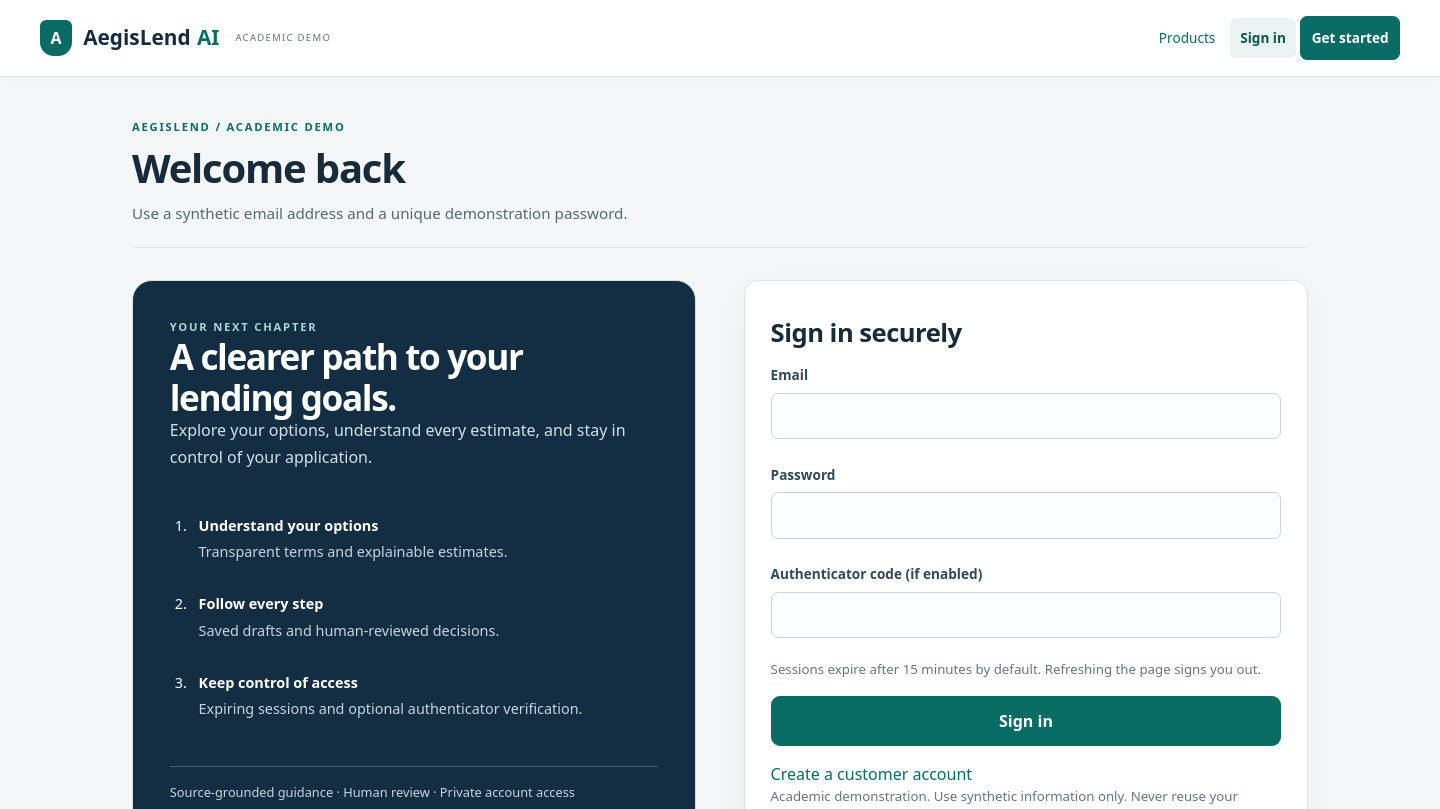
Test case: login displays backend failure and does not navigate on error
Type "synthetic@example.com" into the field labelled "Email".
click(1026, 416); type("synthetic@example.com")  # box [771,393,1281,439]
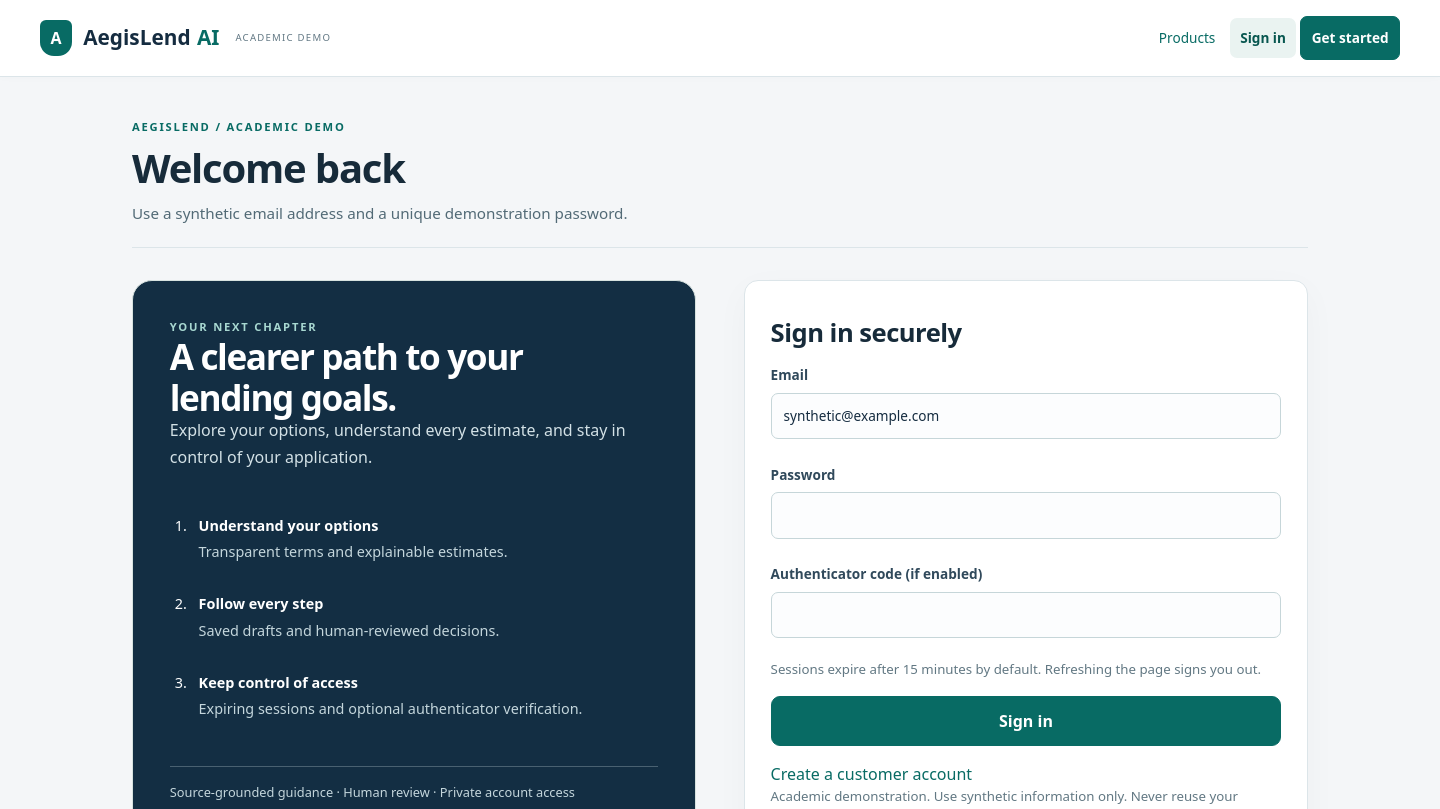
Type "synthetic-test-input-only" into the password field labelled "Password".
click(1026, 516); type("synthetic-test-input-only")  # box [771,492,1281,539]
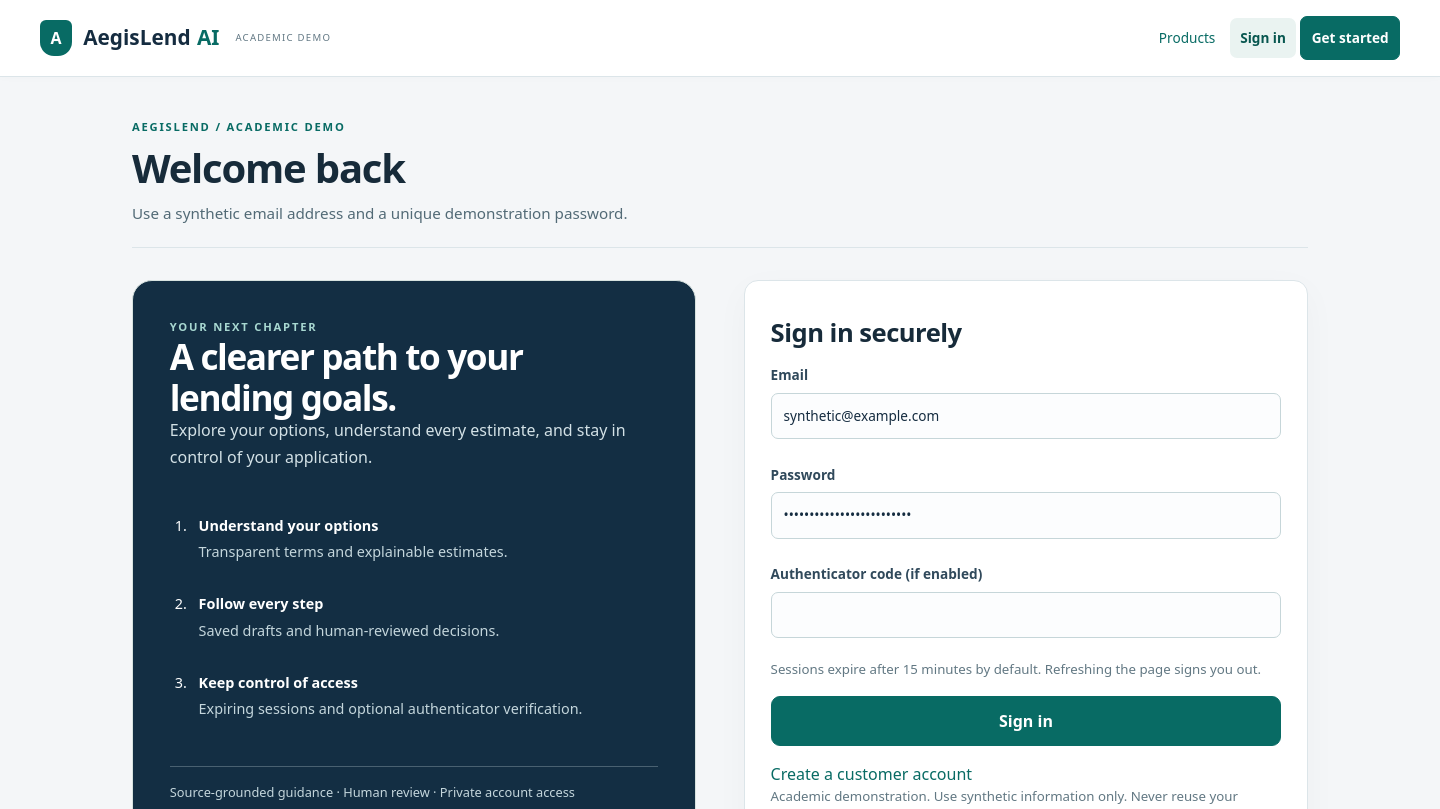
Click the button "Sign in".
click(1026, 721)  # box [771,696,1281,746]
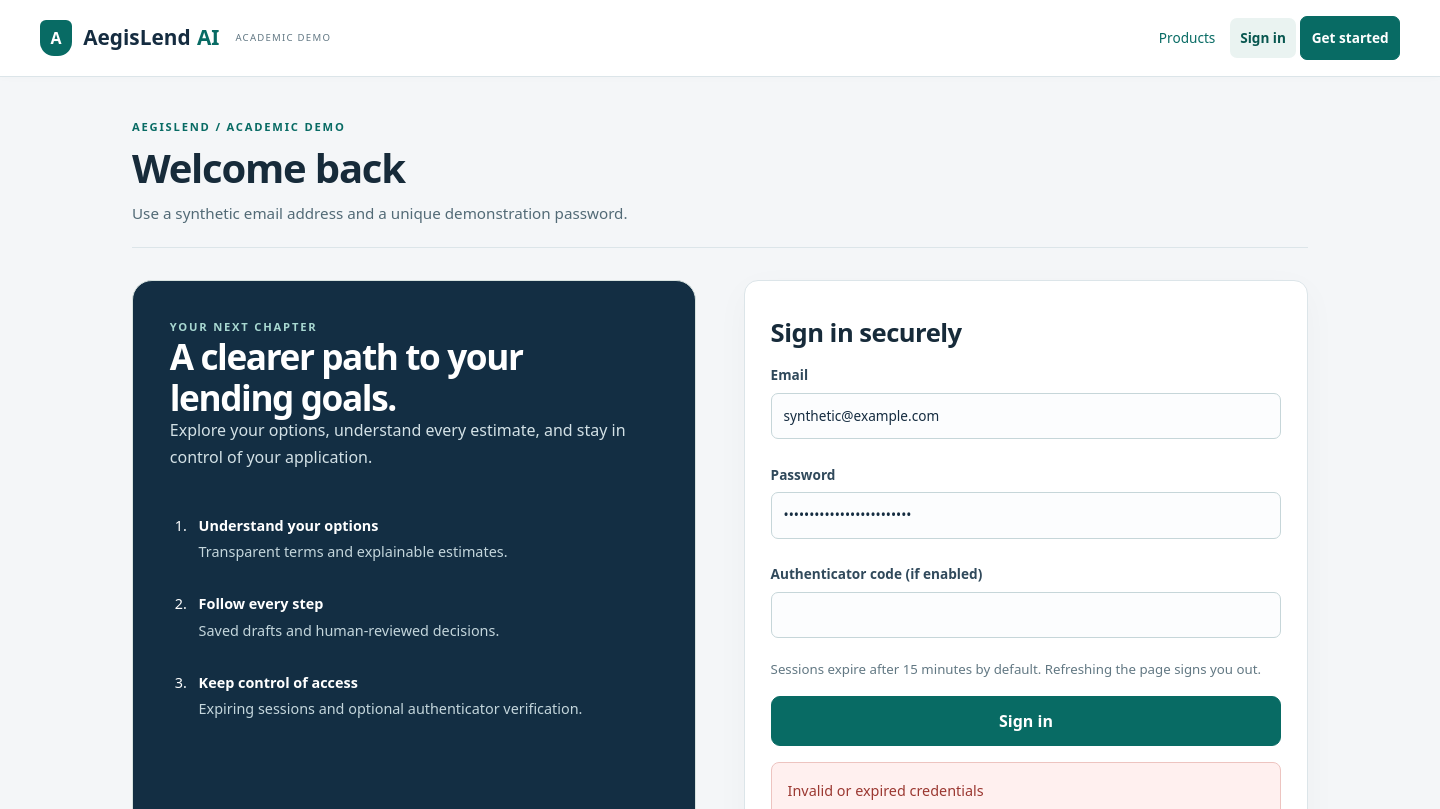
Expected: the heading "Welcome back" is shown, [132,140,405,195]
Expected: the message reads "Invalid or expired credentials", [788,781,984,800]
